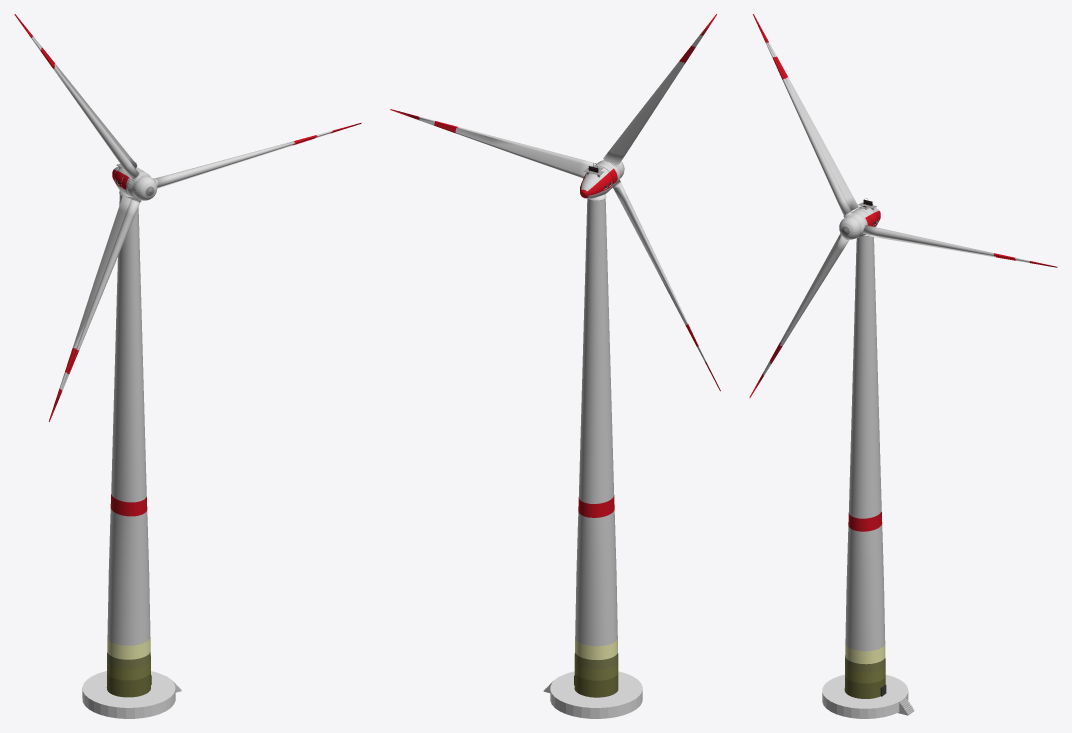
File: turbine.fbx
3 views of the same model, side by side, from view 1: azimuth 30°, elevation 25°; view 2: azimuth 150°, elevation 25°; view 3: azimuth 330°, elevation 25° (orthographic). The views are drawn at different scales.
Visible parts, largest first — view 1: Mast, Foundation, blade_arm.002, blade_arm.003, blade_arm.001, Rotor_base; view 2: Mast, Foundation, blade_arm.001, blade_arm.003, blade_arm.002, Engine_Room; view 3: Mast, Foundation, blade_arm.003, blade_arm.001, blade_arm.002, Rotor_base.
Boxes of the visible parts, bbox=[...] form: Mast: bbox=[106, 195, 150, 697]; Foundation: bbox=[82, 671, 175, 718]; blade_arm.002: bbox=[49, 196, 139, 421]; blade_arm.003: bbox=[14, 14, 138, 178]; blade_arm.001: bbox=[155, 122, 361, 188]; Rotor_base: bbox=[126, 171, 157, 200]; Mast: bbox=[574, 198, 618, 697]; Foundation: bbox=[550, 671, 642, 718]; blade_arm.001: bbox=[390, 109, 595, 178]; blade_arm.003: bbox=[603, 14, 716, 164]; blade_arm.002: bbox=[613, 183, 720, 391]; Engine_Room: bbox=[580, 162, 617, 198]; Mast: bbox=[844, 236, 885, 698]; Foundation: bbox=[822, 674, 908, 718]; blade_arm.003: bbox=[753, 14, 858, 214]; blade_arm.001: bbox=[864, 225, 1057, 267]; blade_arm.002: bbox=[749, 233, 849, 397]; Rotor_base: bbox=[839, 212, 867, 239].
Bounding box in the file's own units: 14.25 × 28.89 × 3.4.
